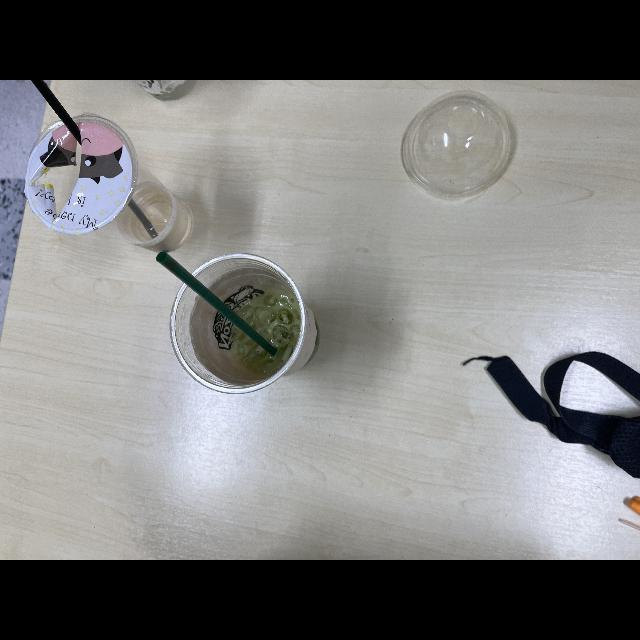plastic_cup: (17, 108, 200, 255), (170, 251, 324, 399)
plastic_cup_lid: (390, 82, 524, 202)
straw: (28, 80, 157, 241), (155, 249, 278, 355)
